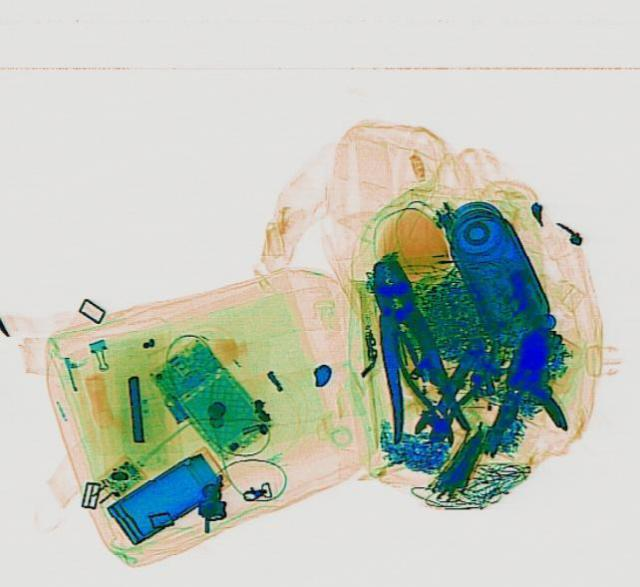Pliers: (342, 252, 471, 443), (382, 324, 498, 449)
Wrench: (408, 328, 492, 445)
